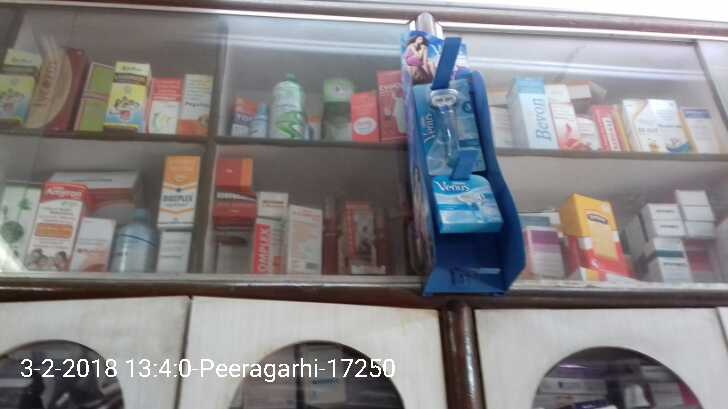venus: (411, 79, 486, 175), (433, 169, 498, 234)
